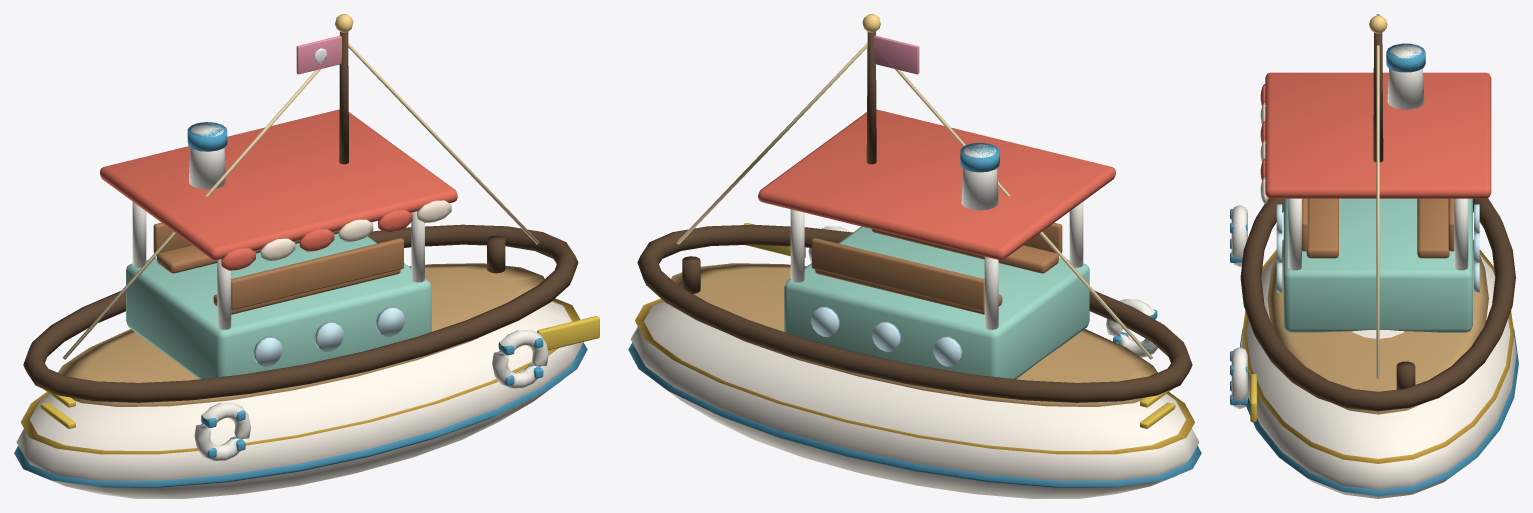
Rendered from visit-boat.glb.
3 views of the same model, side by side, from view 1: azimuth 30°, elevation 25°; view 2: azimuth 150°, elevation 25°; view 3: azimuth 270°, elevation 25° (orthographic). The views are drawn at different scales.
Parts seen in each view (by area): view 1: hull, cabin, top, aft; view 2: hull, cabin, top, aft; view 3: cabin, hull, top, aft.
Boxes of the visible parts, bbox=[...] form: hull: bbox=[14, 224, 599, 498]; cabin: bbox=[100, 109, 457, 379]; top: bbox=[62, 14, 539, 359]; aft: bbox=[40, 235, 505, 428]; hull: bbox=[628, 223, 1201, 498]; cabin: bbox=[758, 109, 1115, 379]; top: bbox=[676, 14, 1153, 359]; aft: bbox=[682, 256, 1175, 428]; cabin: bbox=[1260, 72, 1491, 332]; hull: bbox=[1230, 198, 1518, 498]; top: bbox=[1369, 14, 1425, 378]; aft: bbox=[1396, 361, 1415, 389].
Size of the model in its own units: 2.72 by 2.03 by 1.25.
